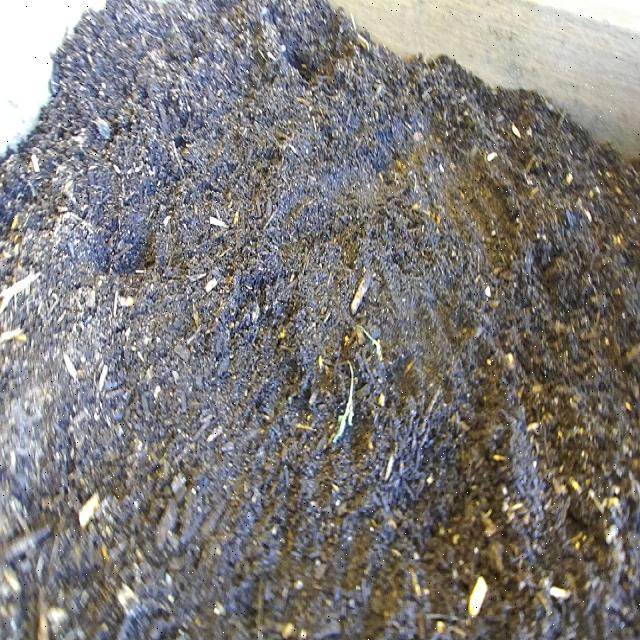Unhealthy: (322, 297, 390, 453)
